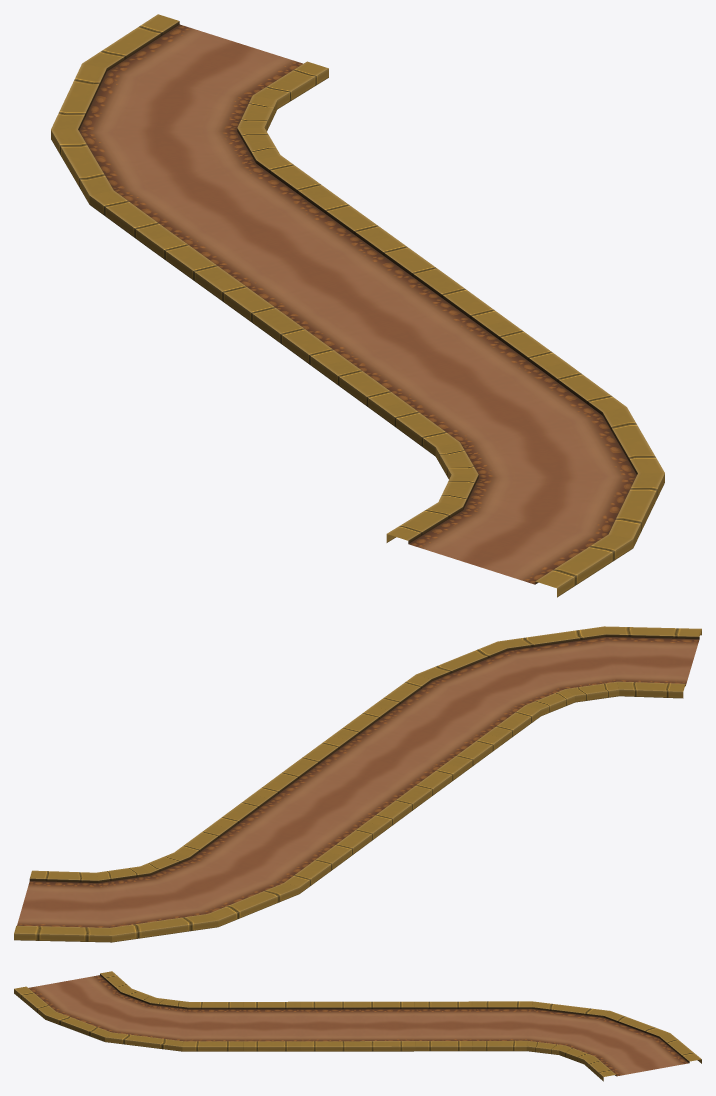
File: RoadPiece_15.FBX
3 views of the same model, one above another, from view 1: azimuth 30°, elevation 25°; view 2: azimuth 150°, elevation 25°; view 3: azimuth 270°, elevation 25° (orthographic). The views are drawn at different scales.
Parts seen in each view (by area): view 1: RoadPiece_15; view 2: RoadPiece_15; view 3: RoadPiece_15.
Boxes of the visible parts, x1,y1,x2,y2 form: RoadPiece_15: (51, 14, 664, 597); RoadPiece_15: (14, 626, 701, 942); RoadPiece_15: (14, 971, 701, 1081).
Size of the model in its own units: 3.83 by 0.0795 by 10.51.
